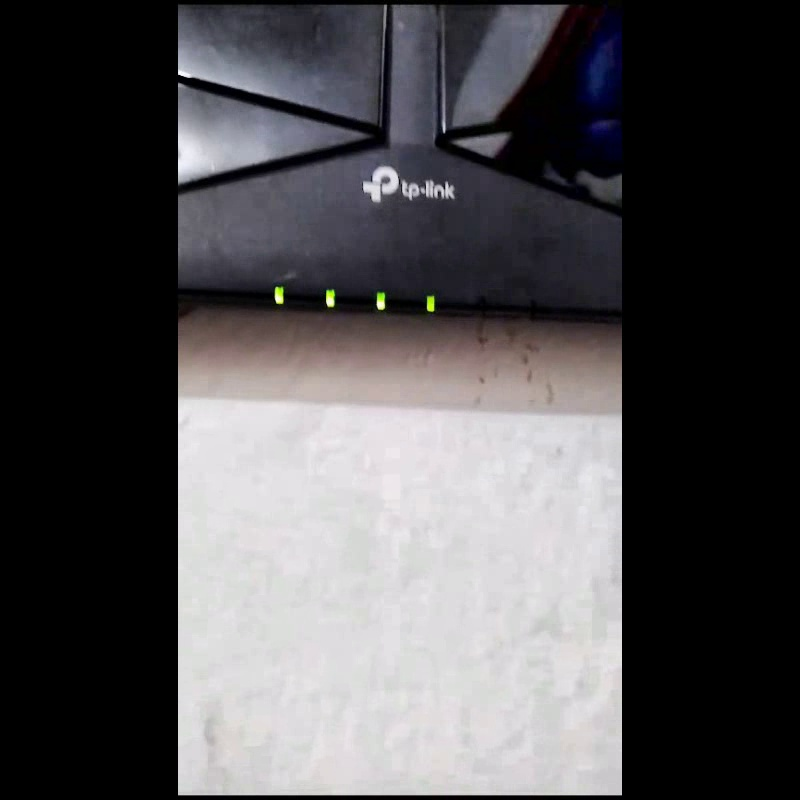off: (475, 294, 486, 314), (524, 298, 534, 317)
on_green: (425, 294, 436, 312), (273, 286, 283, 304), (325, 289, 335, 306), (376, 291, 385, 309)
